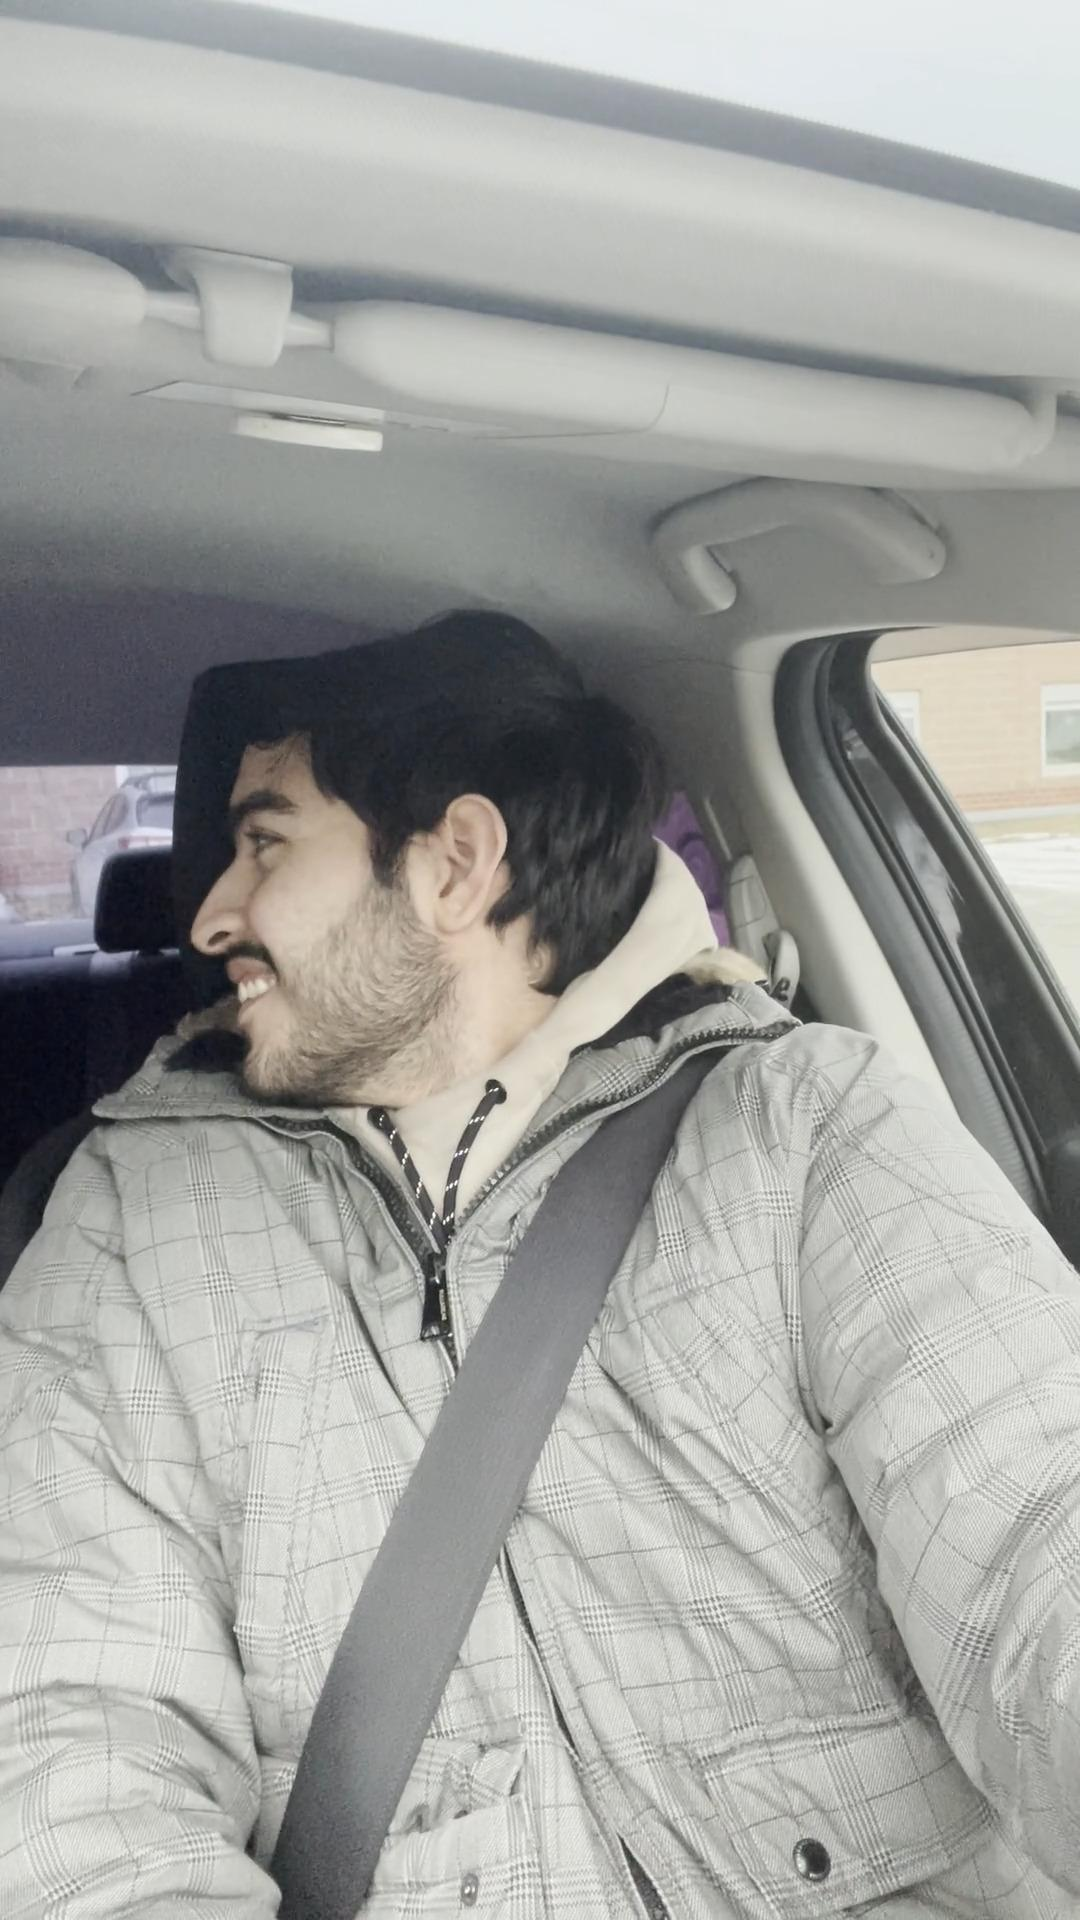inattentive: (195, 655, 695, 1105)
